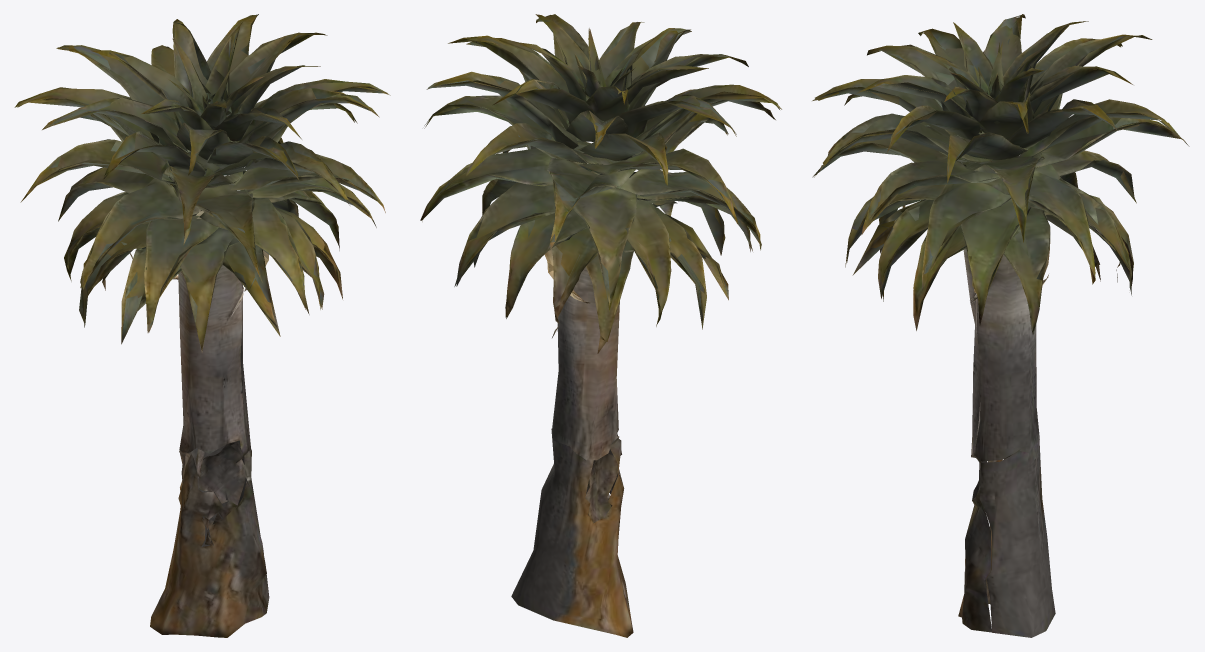
Rendered from quiver_tree_02.glb.
The picture shows the model from 3 angles, left to right: view 1: azimuth 30°, elevation 25°; view 2: azimuth 150°, elevation 25°; view 3: azimuth 270°, elevation 25°; orthographic projection.
Parts seen in each view (by area): view 1: quiver_tree_02; view 2: quiver_tree_02; view 3: quiver_tree_02.
Boxes of the visible parts, box(x1,y1,x2,y2) form: quiver_tree_02: box(14, 14, 390, 637); quiver_tree_02: box(420, 14, 781, 637); quiver_tree_02: box(812, 14, 1189, 637).
Bounding box in the file's own units: 0.8739 × 1.47 × 0.8719.
1 material, 1 textured.
